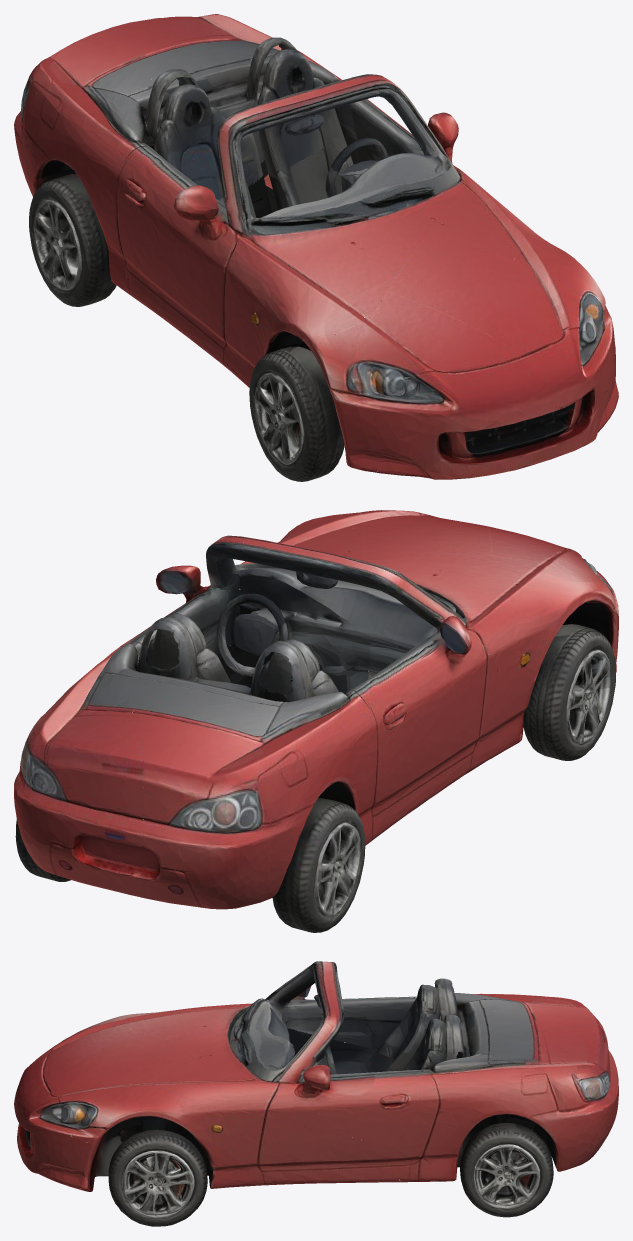
3 views of the same model, one above another, from view 1: azimuth 30°, elevation 25°; view 2: azimuth 150°, elevation 25°; view 3: azimuth 270°, elevation 25° (orthographic). The views are drawn at different scales.
Parts seen in each view (by area): view 1: s2000; view 2: s2000; view 3: s2000.
Part boxes in pixels (bbox=[...]): s2000: bbox=[14, 14, 618, 481]; s2000: bbox=[14, 510, 618, 932]; s2000: bbox=[14, 961, 618, 1226].
Size of the model in its own units: 1.83 by 1.4 by 4.11.
Materials: 1 (1 with a texture image).
